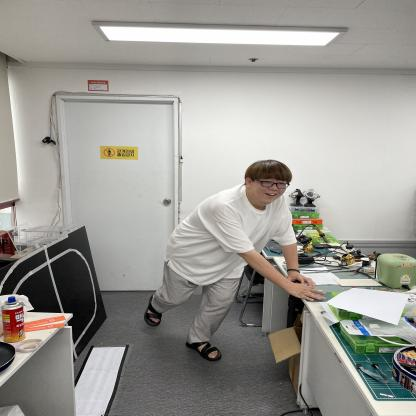normal: (140, 150, 316, 362)
